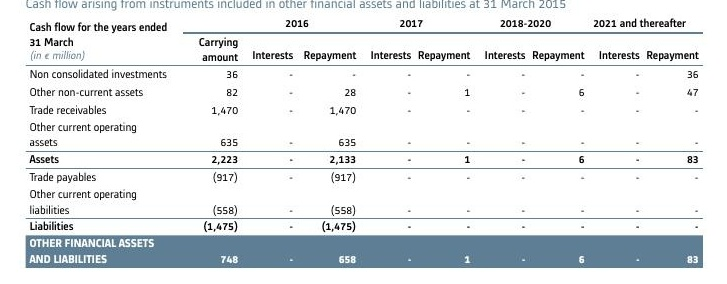table: (0, 0, 727, 284)
